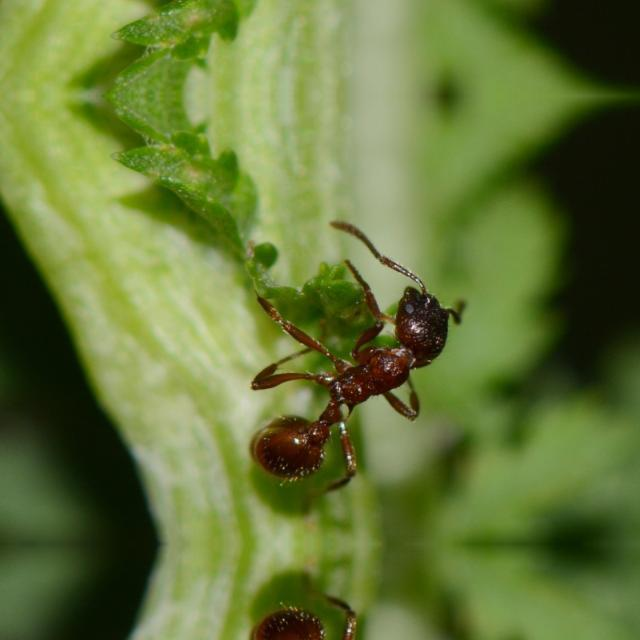Myrmica: (185, 214, 481, 506), (185, 580, 481, 640)
